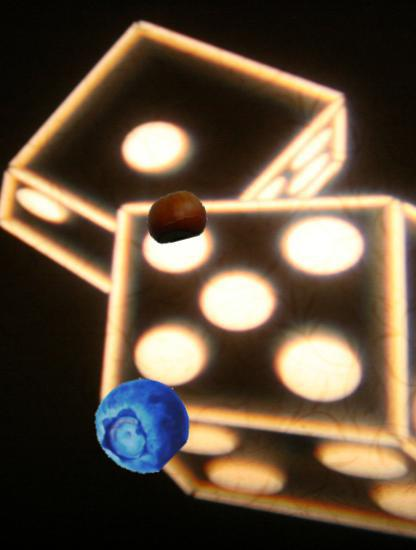Huckleberry: (94, 377, 190, 473)
Nut: (146, 186, 206, 246)
